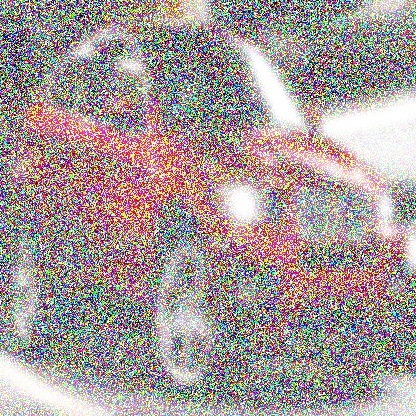Vehicle: (8, 14, 411, 409)
